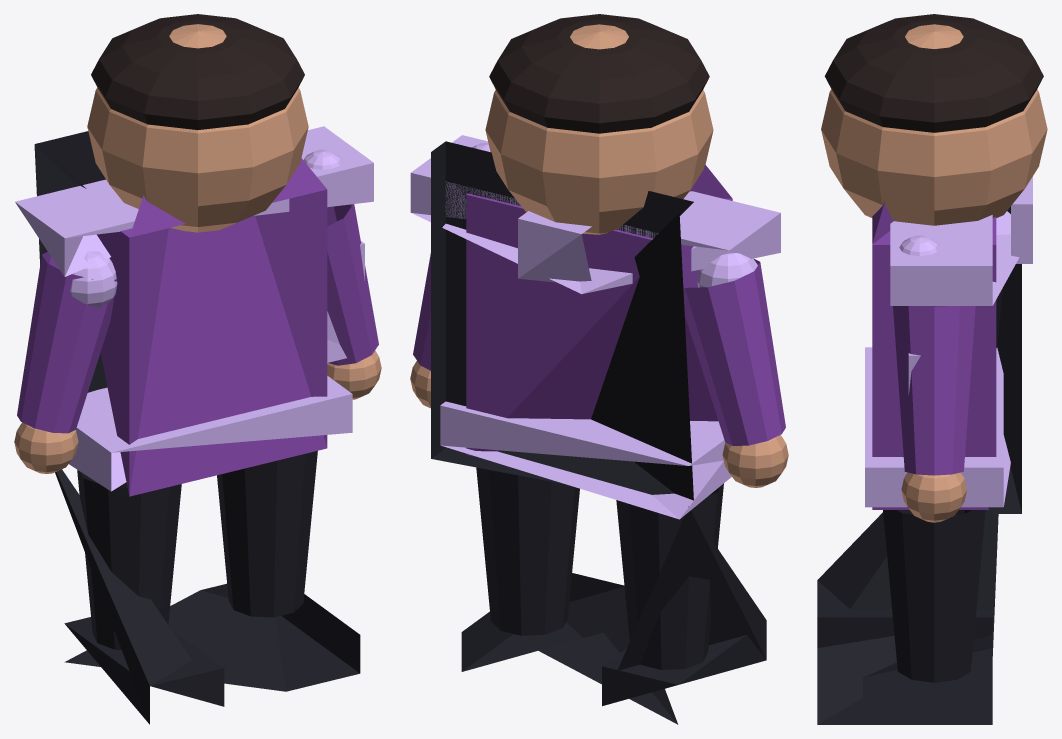
The model's file is Summoner_Female.obj.
3 views of the same model, side by side, from view 1: azimuth 30°, elevation 25°; view 2: azimuth 150°, elevation 25°; view 3: azimuth 270°, elevation 25° (orthographic). The views are drawn at different scales.
Parts seen in each view (by area): view 1: Summoner_Female; view 2: Summoner_Female; view 3: Summoner_Female.
Boxes of the visible parts, <box> form: Summoner_Female: <box>14,14,381,724</box>; Summoner_Female: <box>410,14,788,724</box>; Summoner_Female: <box>817,14,1047,724</box>.
Bounding box in the file's own units: 1.16 × 1.93 × 0.63.
